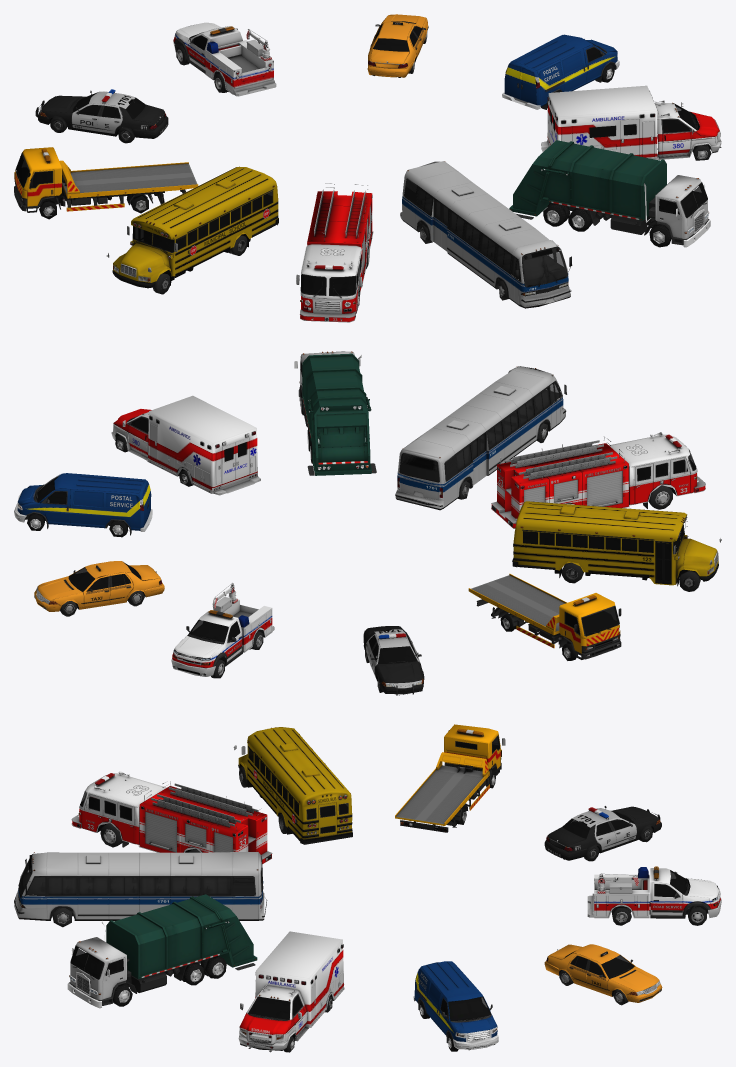
The model's file is generic_civil_service_vehicles_pack.glb.
3 renders of one model, top to bottom at view 1: azimuth 30°, elevation 25°; view 2: azimuth 150°, elevation 25°; view 3: azimuth 270°, elevation 25°, orthographic.
Visible parts, largest first — view 1: garbage_truck, citybus, school_bus_schoolbus_tex_0, ambulance_ambulance_0, fire_truck, towtruck, postvan, rdservtruck, police_sedan, taxi, school_bus_schoolbus_glass_0, ambulance_glass_tex_0; view 2: citybus, fire_truck, school_bus_schoolbus_tex_0, ambulance_ambulance_0, garbage_truck, towtruck, postvan, rdservtruck, taxi, police_sedan, school_bus_schoolbus_glass_0; view 3: citybus, garbage_truck, fire_truck, ambulance_ambulance_0, school_bus_schoolbus_tex_0, towtruck, rdservtruck, postvan, taxi, police_sedan, school_bus_schoolbus_glass_0, ambulance_glass_tex_0.
Part boxes in pixels (x1,y1,x2,y2): garbage_truck: [509, 140, 710, 247]; citybus: [400, 161, 572, 308]; school_bus_schoolbus_tex_0: [106, 166, 278, 294]; ambulance_ambulance_0: [541, 85, 721, 160]; fire_truck: [296, 183, 373, 322]; towtruck: [14, 147, 198, 219]; postvan: [502, 34, 619, 109]; rdservtruck: [173, 22, 276, 96]; police_sedan: [35, 89, 168, 143]; taxi: [367, 14, 428, 77]; school_bus_schoolbus_glass_0: [133, 191, 272, 252]; ambulance_glass_tex_0: [550, 103, 697, 137]; citybus: [395, 366, 566, 510]; fire_truck: [491, 432, 705, 528]; school_bus_schoolbus_tex_0: [512, 501, 721, 591]; ambulance_ambulance_0: [111, 395, 260, 495]; garbage_truck: [294, 351, 376, 475]; towtruck: [468, 573, 621, 660]; postvan: [14, 473, 152, 537]; rdservtruck: [171, 582, 274, 678]; taxi: [34, 561, 164, 616]; police_sedan: [363, 626, 424, 695]; school_bus_schoolbus_glass_0: [523, 524, 684, 580]; citybus: [14, 851, 267, 927]; garbage_truck: [67, 894, 257, 1008]; fire_truck: [71, 771, 272, 864]; ambulance_ambulance_0: [238, 931, 344, 1052]; school_bus_schoolbus_tex_0: [233, 727, 352, 844]; towtruck: [395, 724, 505, 832]; rdservtruck: [587, 866, 721, 925]; postvan: [413, 961, 498, 1051]; taxi: [544, 944, 662, 1005]; police_sedan: [544, 806, 661, 861]; school_bus_schoolbus_glass_0: [248, 748, 348, 819]; ambulance_glass_tex_0: [248, 995, 302, 1019].
Bounding box in the file's own units: 26.92 × 2.83 × 27.8.
35 materials, 34 textured.
